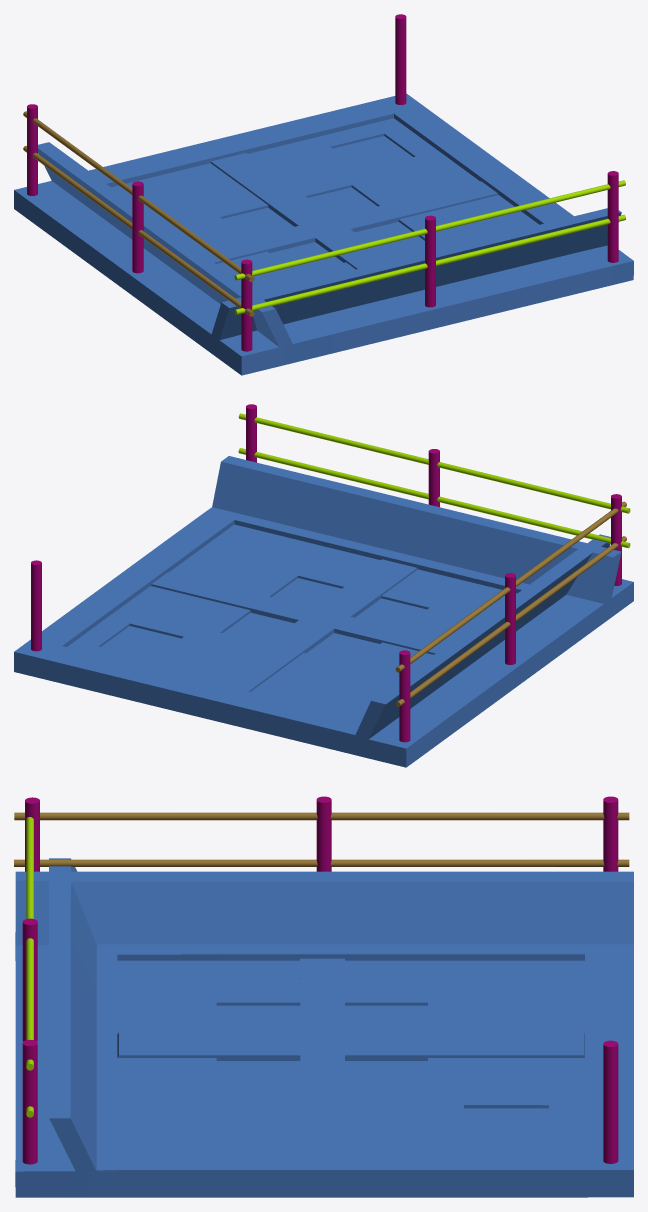
File: CornerViewingPlatform_V1.fbx
3 renders of one model, top to bottom at view 1: azimuth 30°, elevation 25°; view 2: azimuth 150°, elevation 25°; view 3: azimuth 270°, elevation 25°, orthographic. The views are drawn at different scales.
Visible parts, largest first — view 1: CornerRailBars_09; view 2: CornerRailBars_09; view 3: CornerRailBars_09.
Boxes of the visible parts, x1,y1,x2,y2 form: CornerRailBars_09: (14,14,633,375); CornerRailBars_09: (14,404,633,767); CornerRailBars_09: (14,796,633,1197).
Size of the model in its own units: 21.5 by 5.56 by 21.63.
